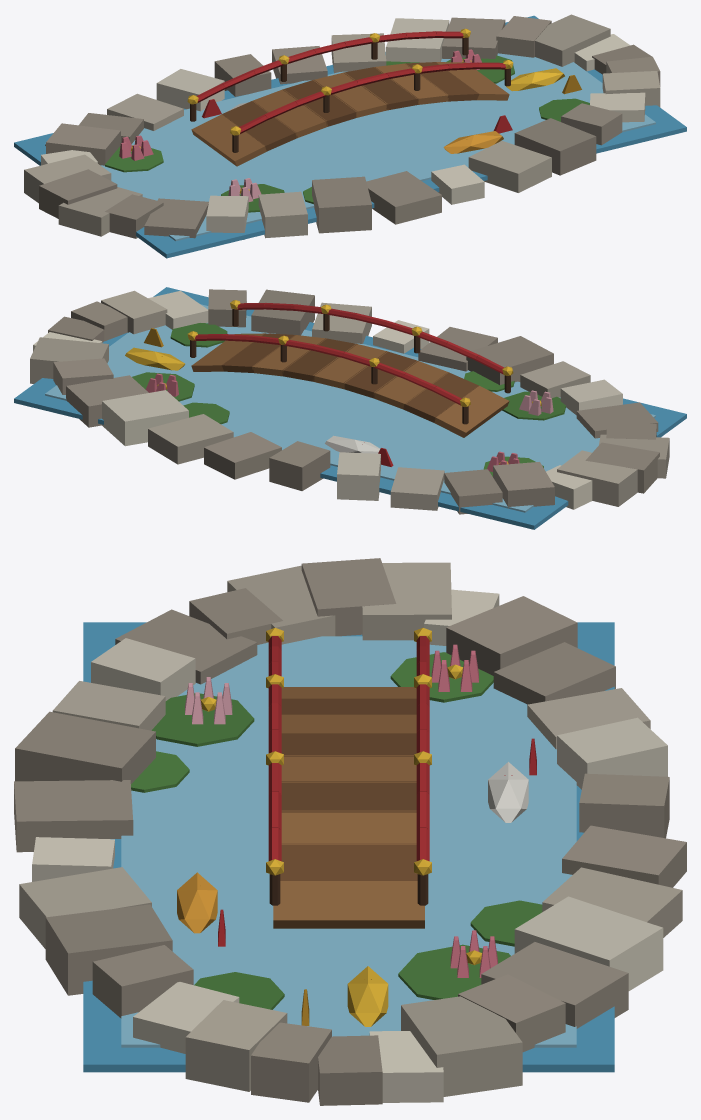
The model's file is Decor_DogeAltar_Pond.fbx.
3 views of the same model, one above another, from view 1: azimuth 30°, elevation 25°; view 2: azimuth 150°, elevation 25°; view 3: azimuth 270°, elevation 25° (orthographic). The views are drawn at different scales.
Parts seen in each view (by area): view 1: Pond_Body; view 2: Pond_Body; view 3: Pond_Body.
Boxes of the visible parts, x1=… form: Pond_Body: x1=14, y1=14, x2=686, y2=258; Pond_Body: x1=14, y1=287, x2=686, y2=529; Pond_Body: x1=14, y1=558, x2=686, y2=1105.
Size of the model in its own units: 28.6 by 3.75 by 16.
